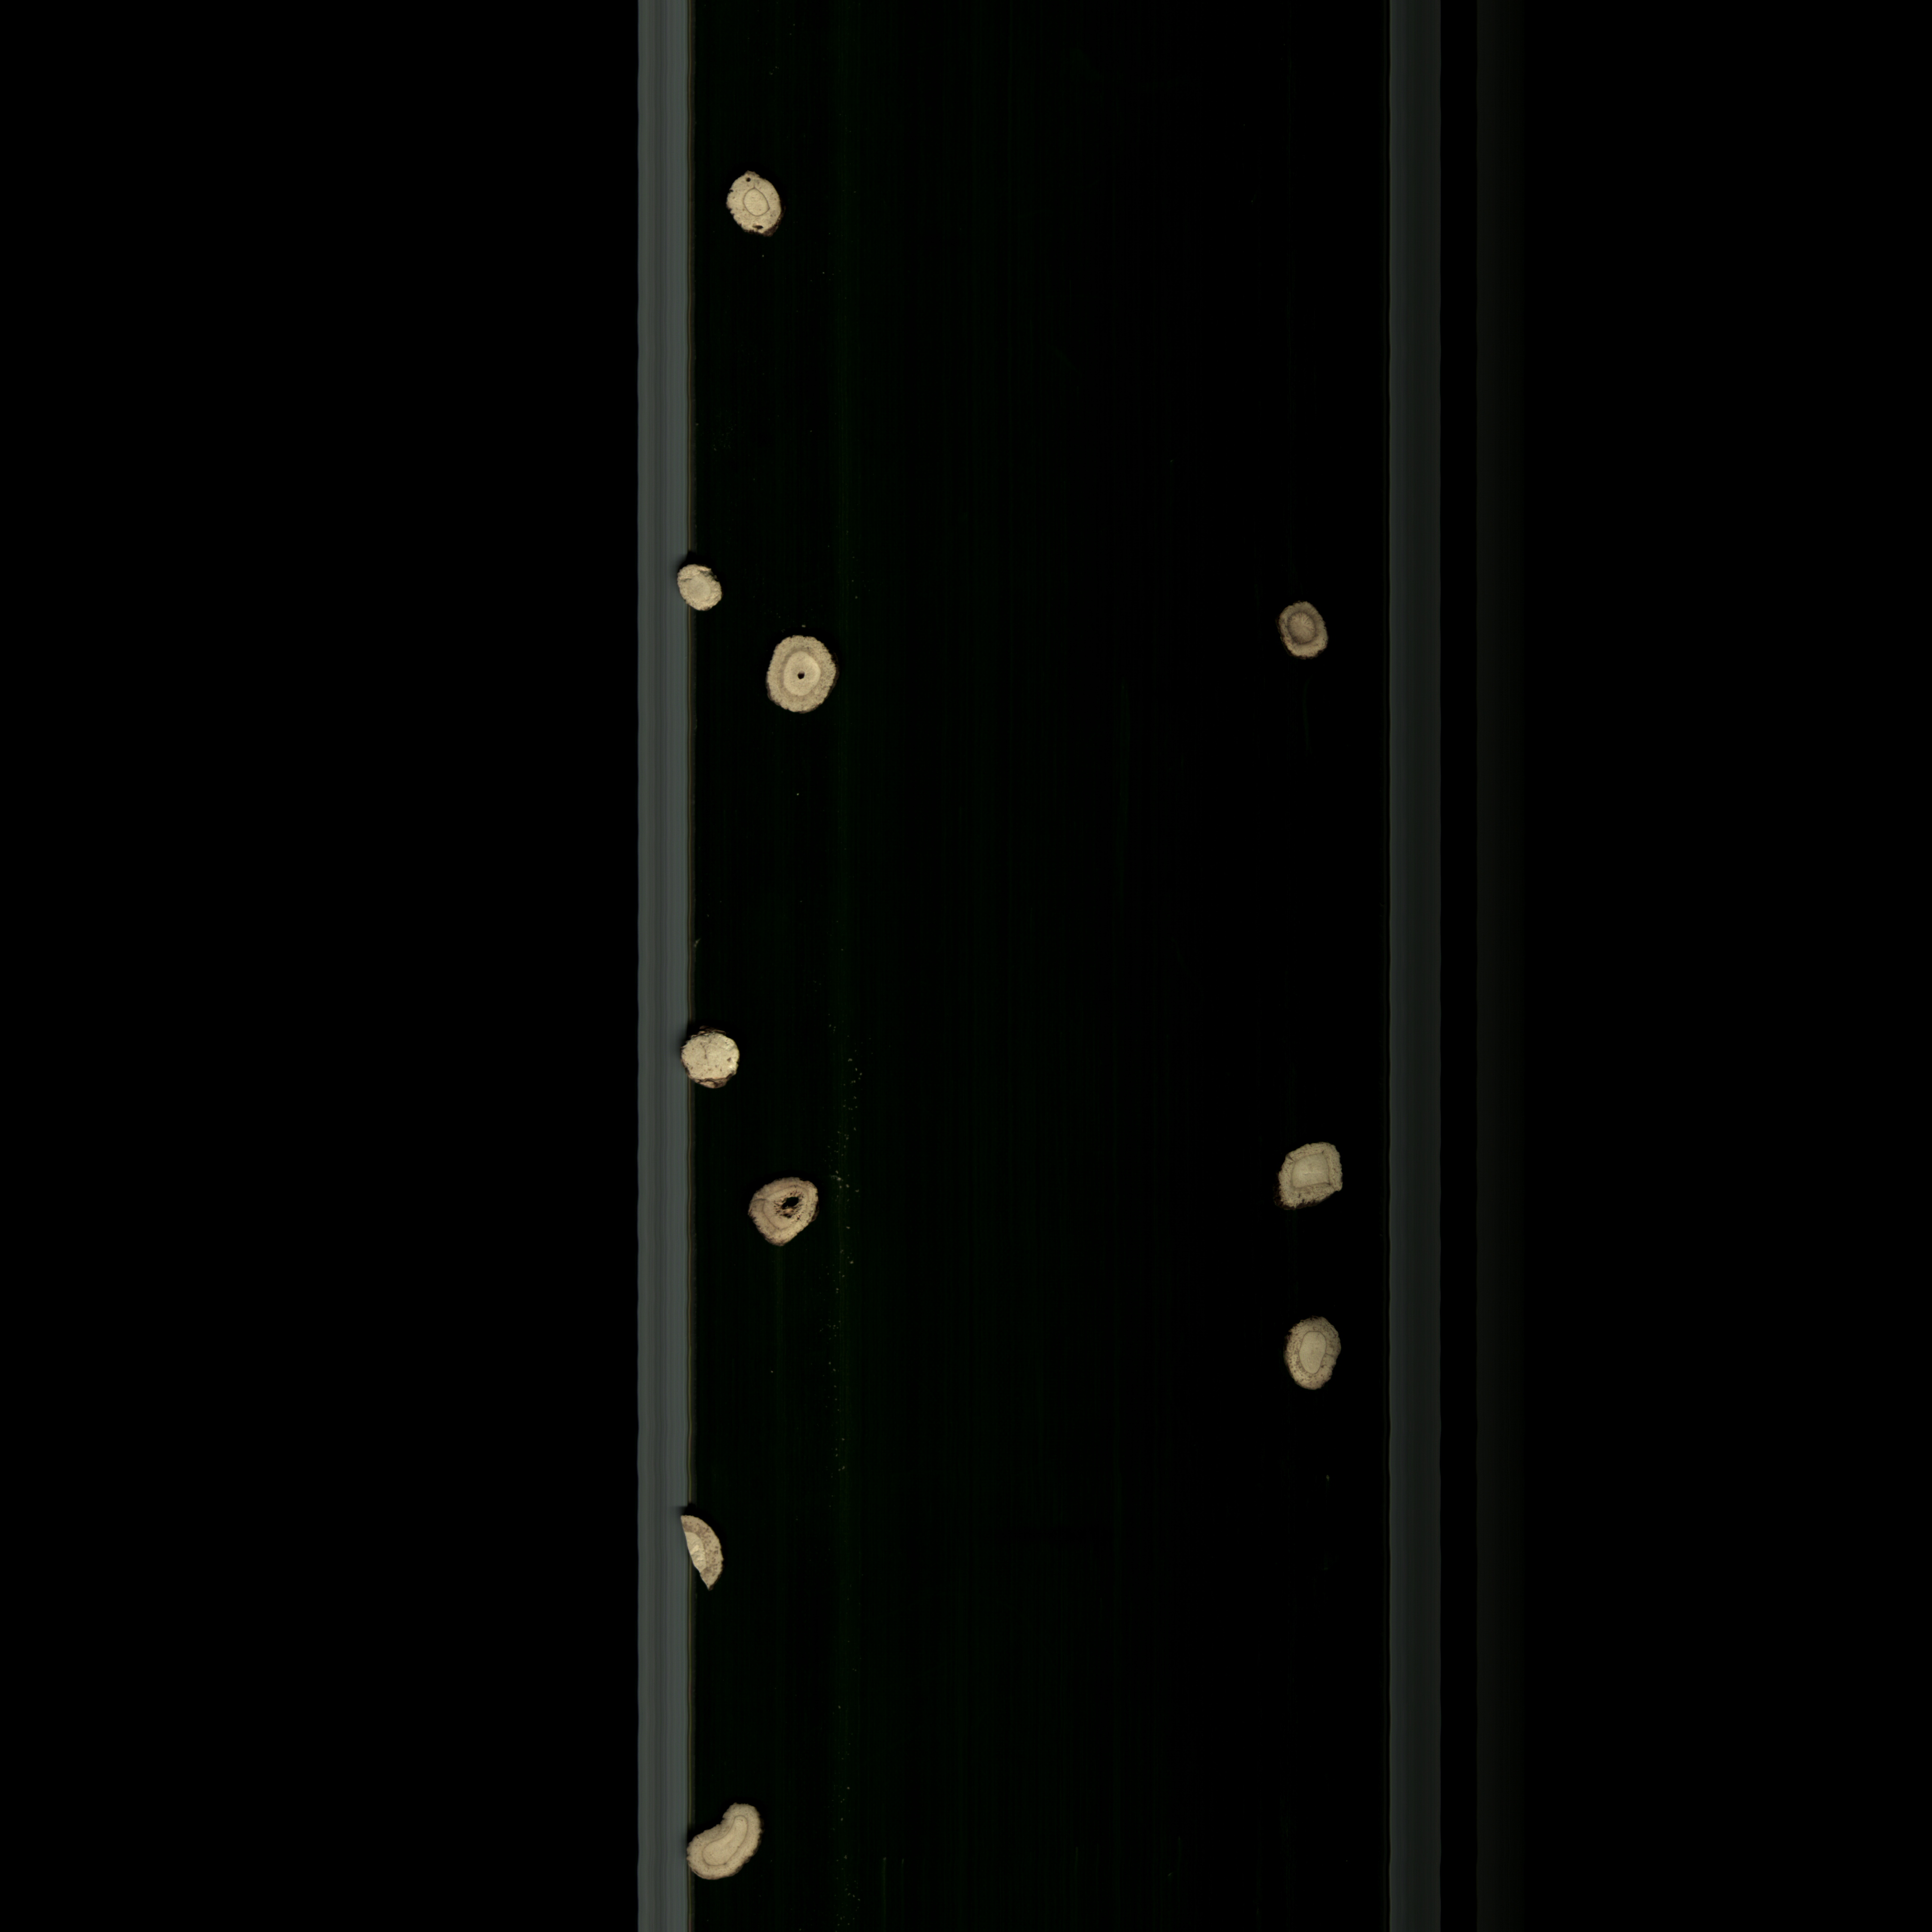debris: (669, 1502, 736, 1594)
distortion: (678, 1794, 777, 1891), (1270, 1134, 1350, 1223)
hole: (752, 633, 851, 724), (741, 1166, 833, 1258), (715, 161, 787, 248)
moldy: (1274, 594, 1338, 676)
